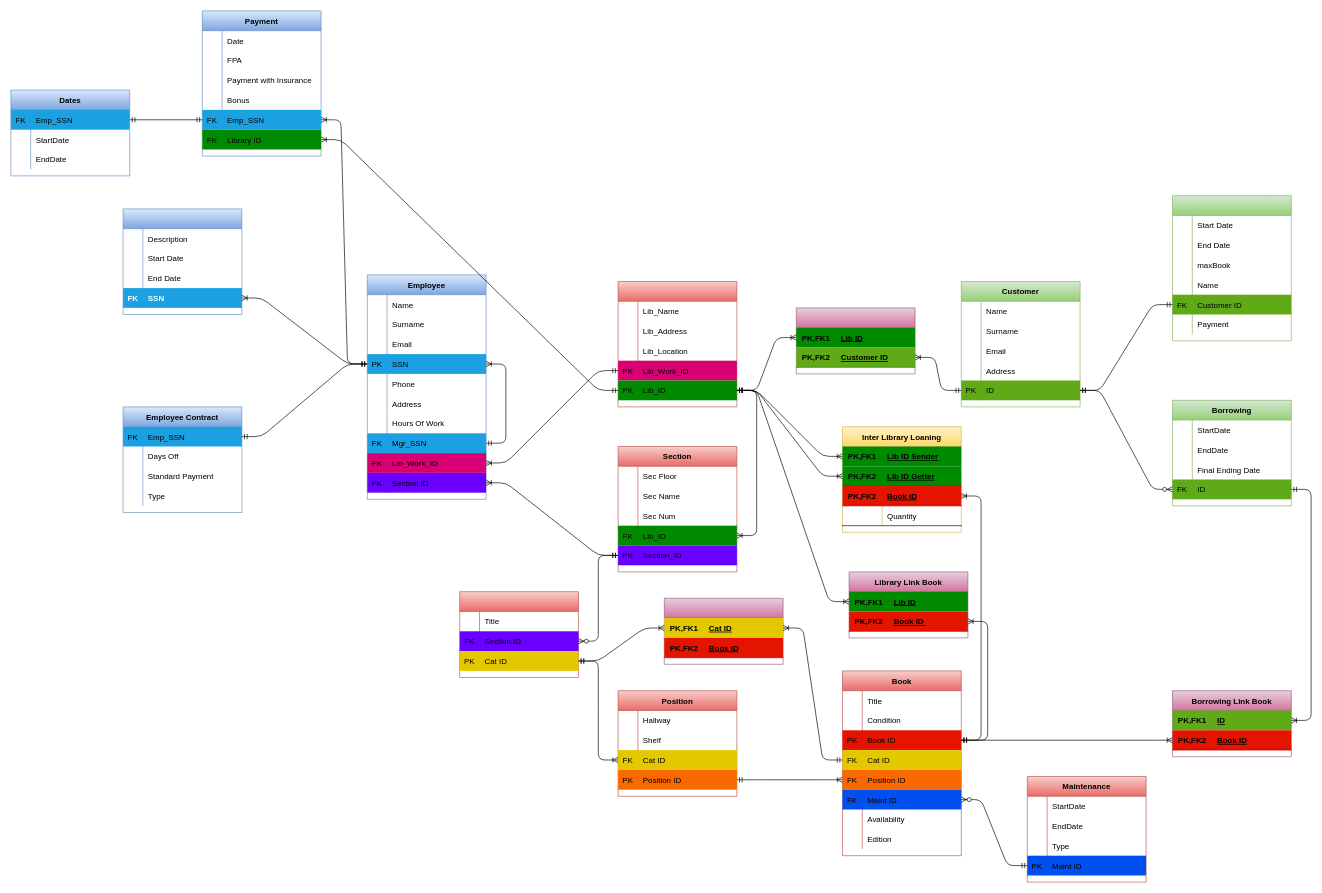
This 1322x893 diagram has some shape labels left out. The box of each missing label's shape, as (x1, y1, x2, y2) in pixels:
Category: (459, 591, 578, 677)
Category Link Book: (664, 598, 783, 664)
Customer Membership: (1172, 195, 1291, 341)
Day Off: (122, 208, 242, 314)
Lib Link Customer: (796, 307, 915, 374)
Library: (617, 281, 737, 407)
